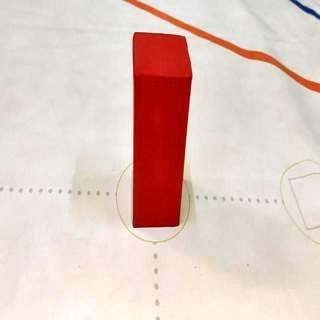redbox: (130, 30, 192, 228)
